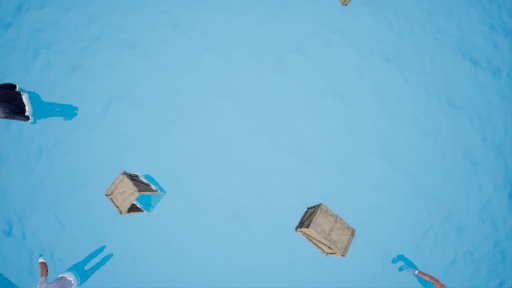person: (2, 78, 82, 136)
